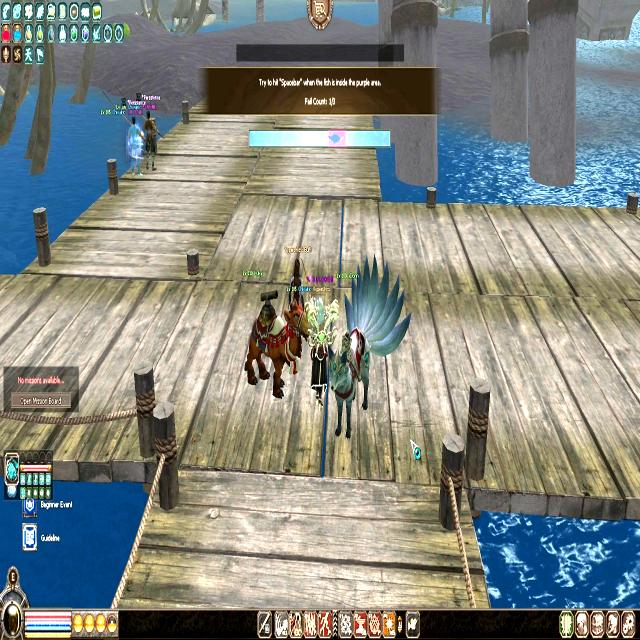fishes: (328, 132, 342, 144)
